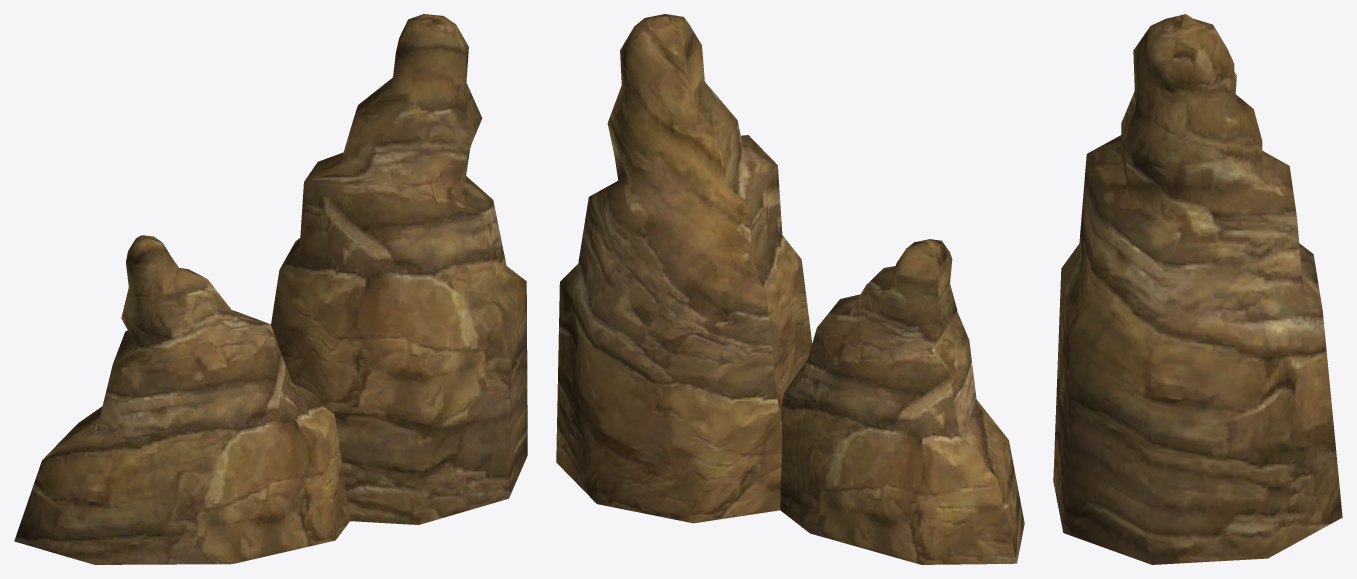
File: environment_stone_shanya_002_a02.FBX
The picture shows the model from 3 angles, left to right: view 1: azimuth 30°, elevation 25°; view 2: azimuth 150°, elevation 25°; view 3: azimuth 270°, elevation 25°; orthographic projection. The views are drawn at different scales.
Parts seen in each view (by area): view 1: environment_stone_shanya_002_a02; view 2: environment_stone_shanya_002_a02; view 3: environment_stone_shanya_002_a02.
Boxes of the visible parts, x1,y1,x2,y2 form: environment_stone_shanya_002_a02: (14, 14, 527, 564); environment_stone_shanya_002_a02: (556, 14, 1024, 564); environment_stone_shanya_002_a02: (1053, 14, 1342, 564).
Size of the model in its own units: 1171 by 1063 by 555.
